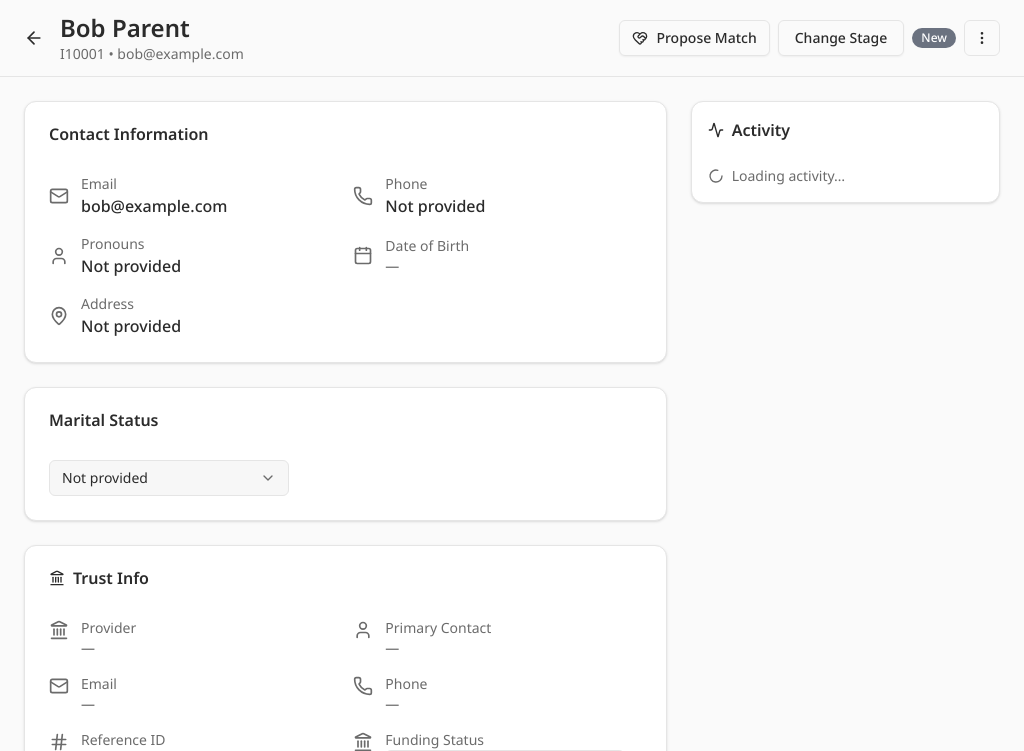
Test: IntendedParentDetailPage stage changes › shows a loading state instead of built-in stages while stages load
Click the button "Change Stage" at point(841, 38), box [778,20,904,56]
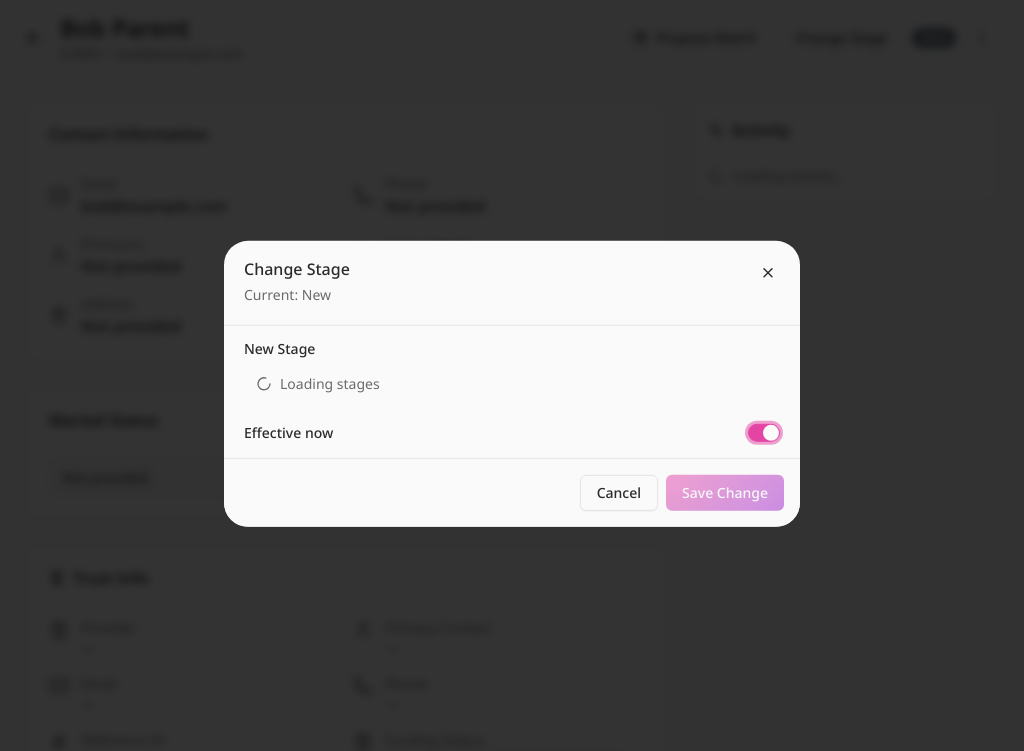
Expected: the message reads "Loading stages", [280,374,380,393]
Expected: the button "Save Change" is disabled, [666,475,784,511]
